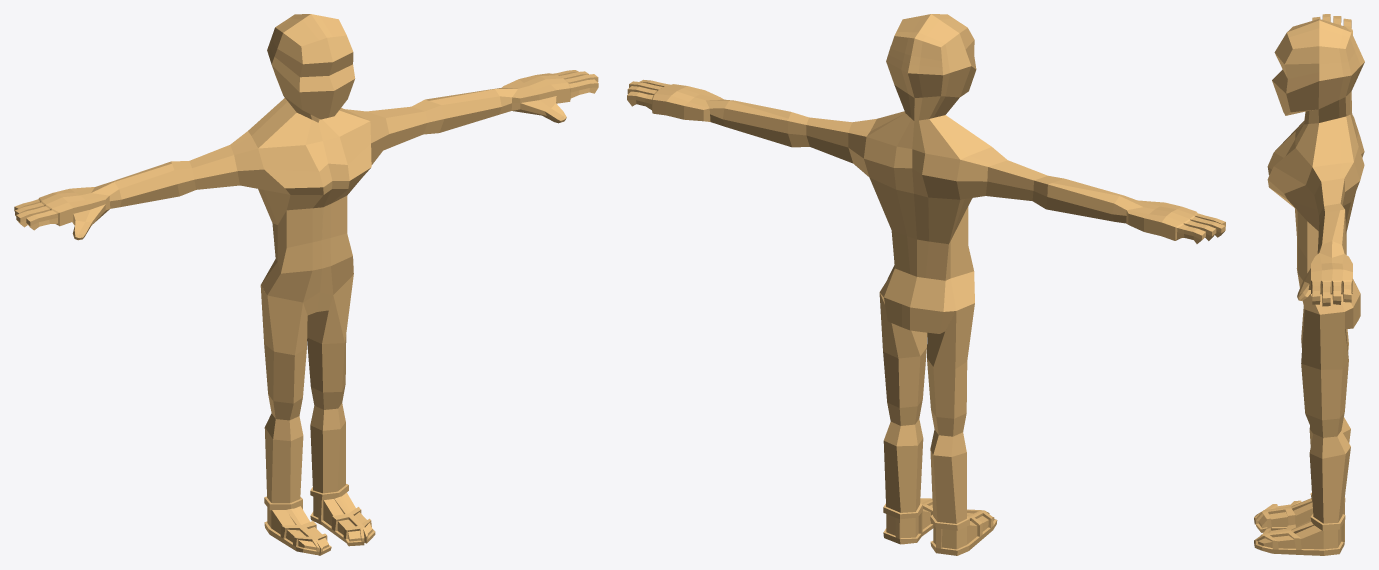
The model's file is Alecto.fbx.
The picture shows the model from 3 angles, left to right: view 1: azimuth 30°, elevation 25°; view 2: azimuth 150°, elevation 25°; view 3: azimuth 270°, elevation 25°; orthographic projection. The views are drawn at different scales.
Visible parts, largest first — view 1: Cube.001, Cube.002; view 2: Cube.001, Cube.002; view 3: Cube.001, Cube.002.
Boxes of the visible parts, <box> form: Cube.001: <box>14,14,598,549</box>; Cube.002: <box>264,484,375,555</box>; Cube.001: <box>627,14,1225,549</box>; Cube.002: <box>883,498,997,555</box>; Cube.001: <box>1258,14,1364,549</box>; Cube.002: <box>1254,492,1345,555</box>.
Size of the model in its own units: 25.42 by 21.59 by 4.2.
